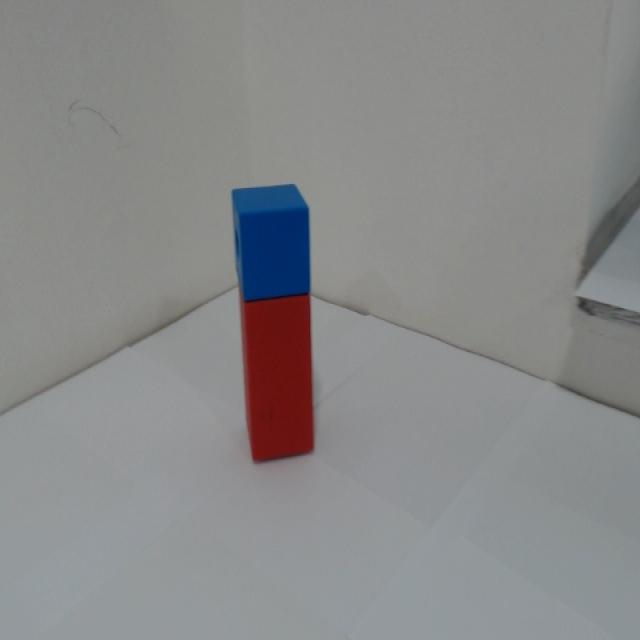cube: (223, 174, 332, 296)
